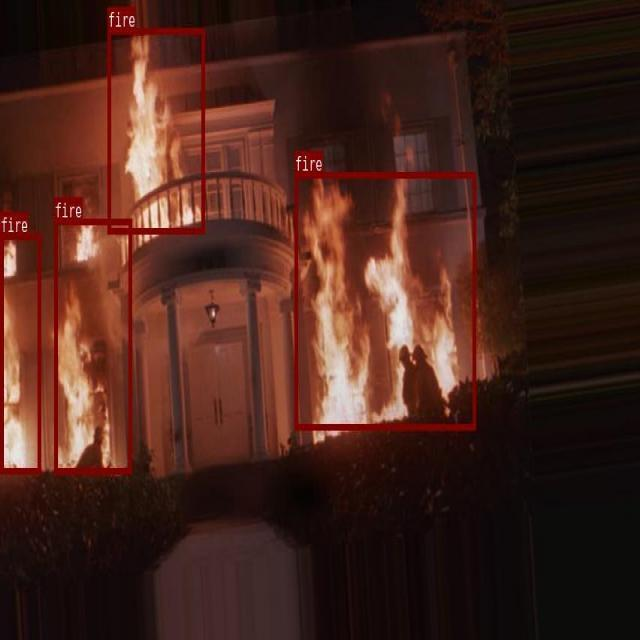fire: (294, 171, 475, 429), (54, 219, 132, 473), (108, 28, 204, 233), (0, 232, 40, 472)
